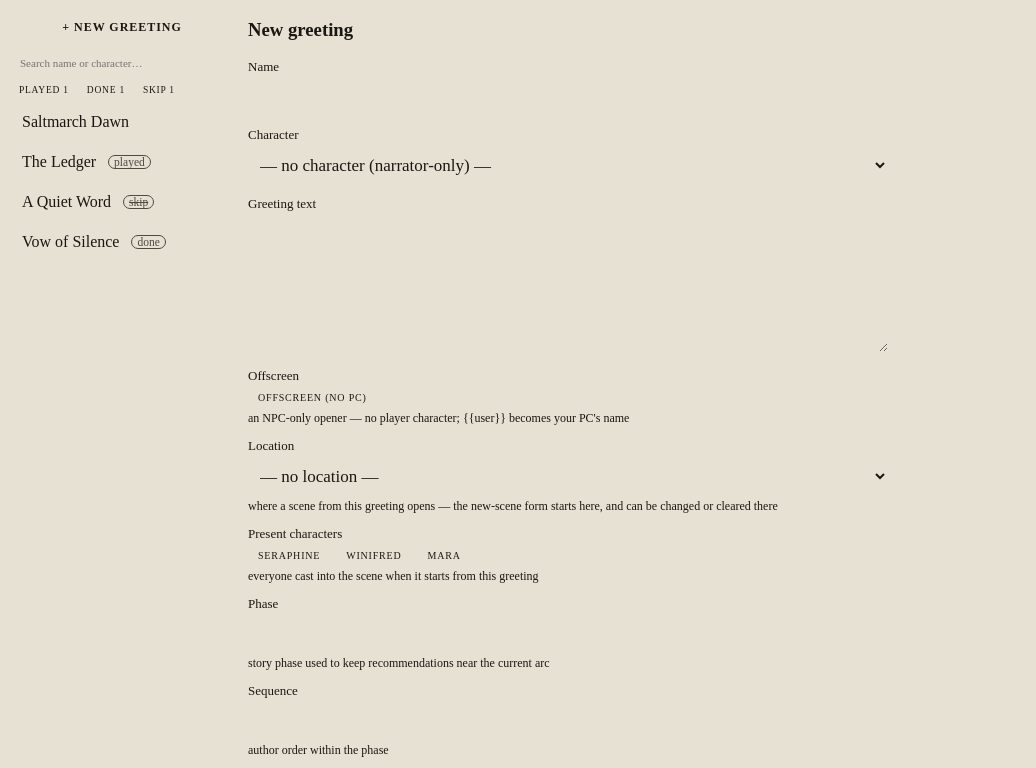
Test: mark chips hide their group, and are absent in world scope
Check: the link "Saltmarch Dawn" is shown, box left=22, top=113, right=129, bottom=130
Check: the link "The Ledger played" is shown, box left=22, top=153, right=151, bottom=170
Click the button "skip 1": [159, 90] box left=136, top=83, right=182, bottom=97
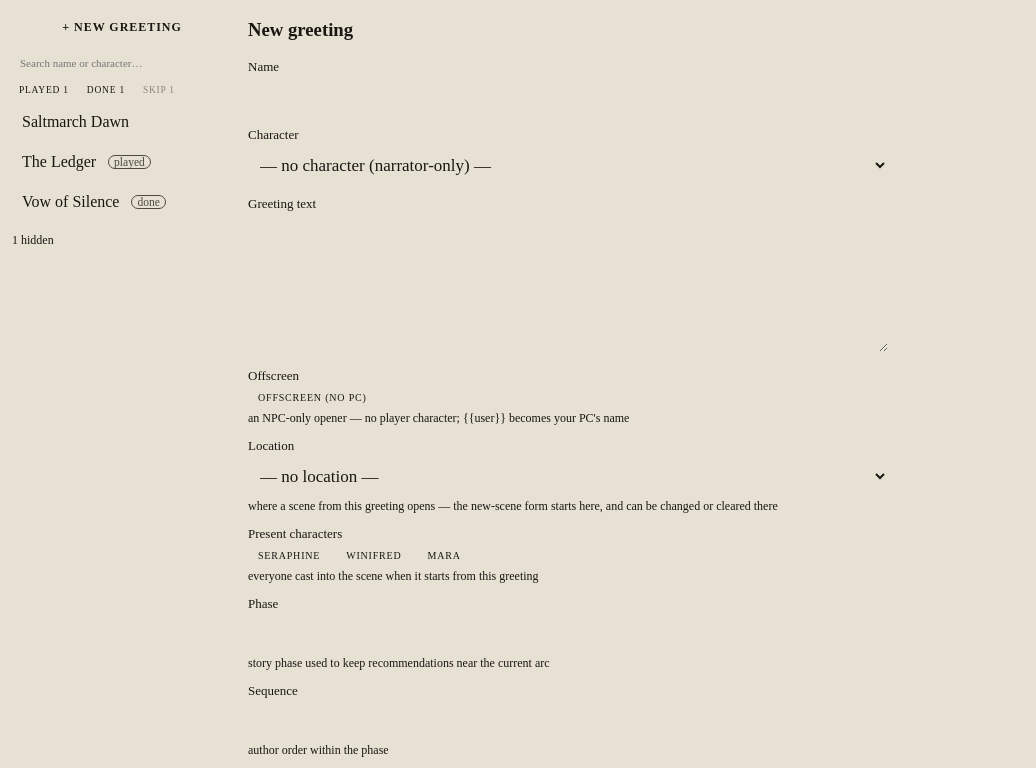
Check: the text "A Quiet Word" is not shown
Check: the text "1 hidden" is shown, box left=12, top=233, right=54, bottom=247
Click the button "skip 1": [159, 90] box left=136, top=83, right=182, bottom=97
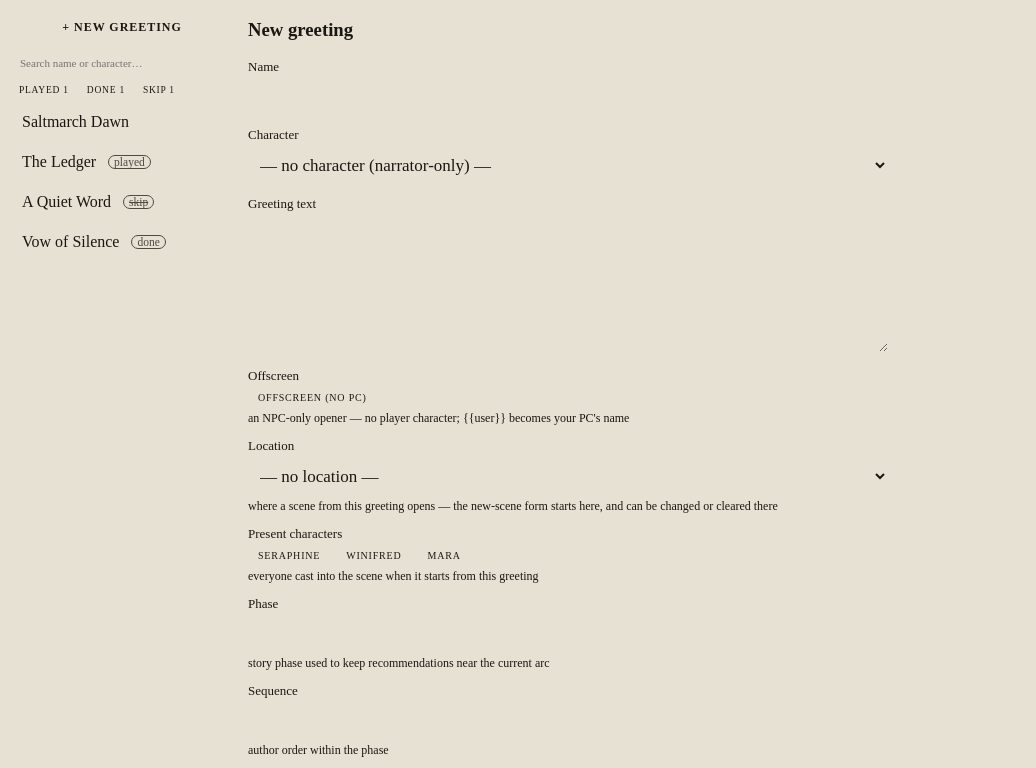
Check: the link "A Quiet Word skip" is shown, box left=22, top=193, right=154, bottom=210
